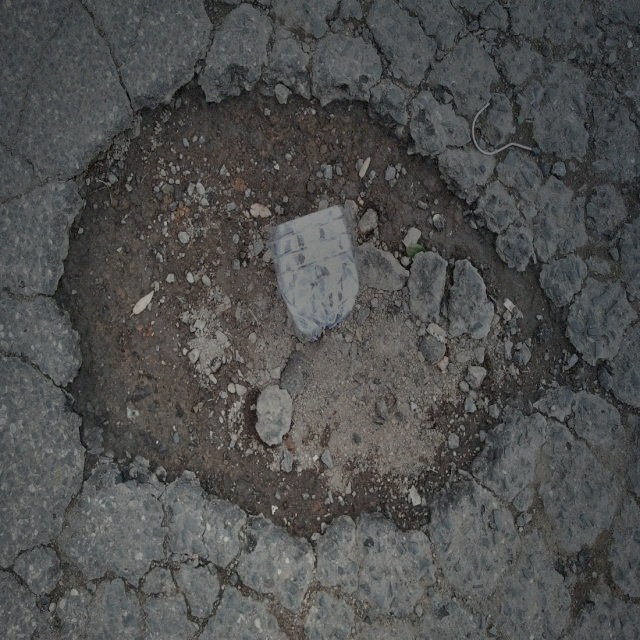pothole: (57, 58, 580, 558)
